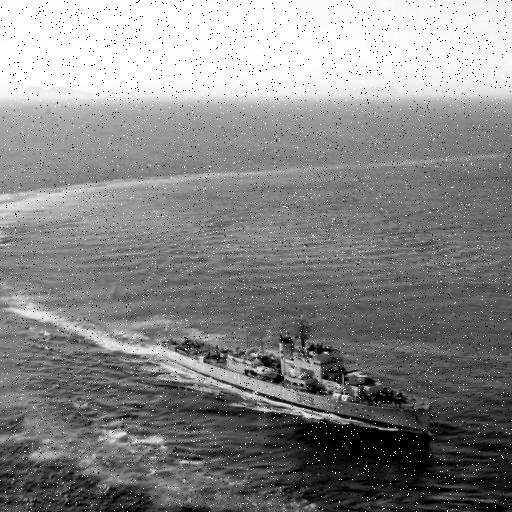Fragata: (141, 315, 442, 447)
